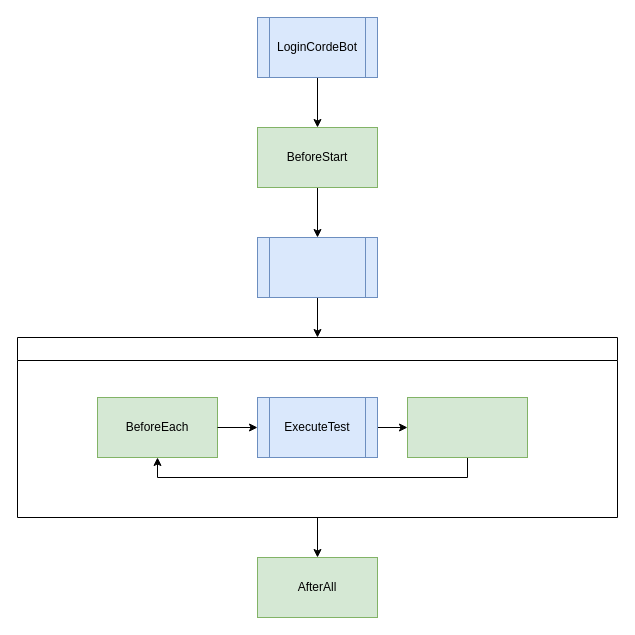
The diagram is 635 pixels wide and 635 high, and some of its shapes have lost their labels. The shapes that lost their labels are listed below. From the top down, each one's box as (x1, y1, x2, y2) in pixels, then its label:
(256, 236, 378, 298): LoadTests
(16, 336, 618, 518): Execution of tests
(406, 396, 528, 458): AfterEach
